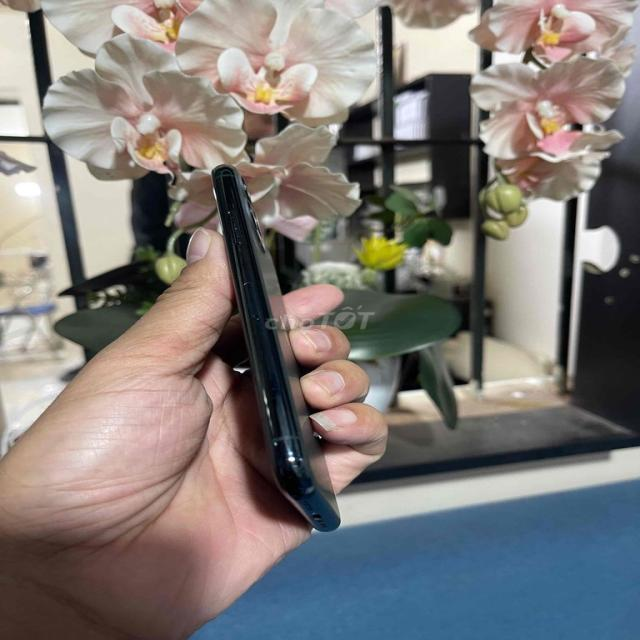gen_11: (212, 165, 339, 531)
